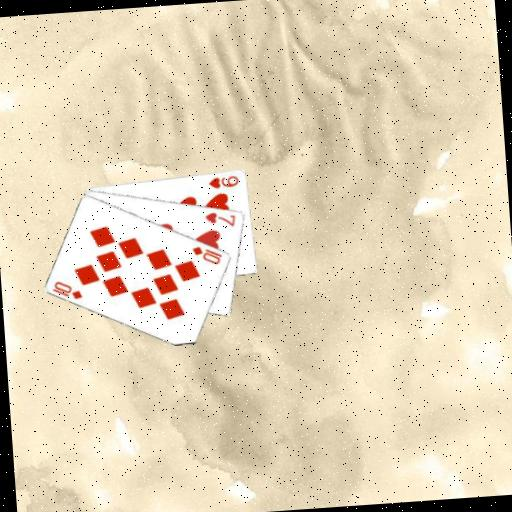10D: (189, 242, 225, 268), (49, 277, 85, 303)
7H: (202, 208, 238, 230)
9H: (206, 172, 241, 191)
